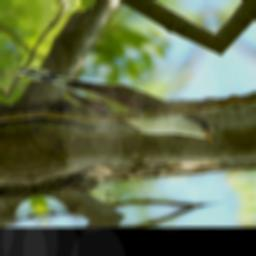Cuckoo: (15, 44, 218, 168)
